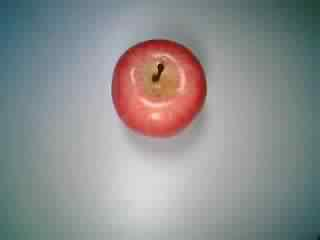apple: (106, 38, 211, 140)
